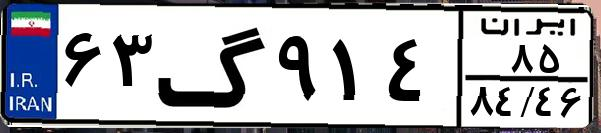1: (330, 28, 385, 110)
3: (110, 28, 156, 98)
4: (385, 28, 445, 110), (495, 70, 520, 125), (535, 70, 560, 125)
5: (537, 27, 568, 80)
6: (57, 26, 110, 100), (560, 70, 590, 125)
8: (508, 27, 537, 80), (470, 70, 495, 125)
9: (270, 28, 330, 110)
گ: (156, 12, 270, 120)
